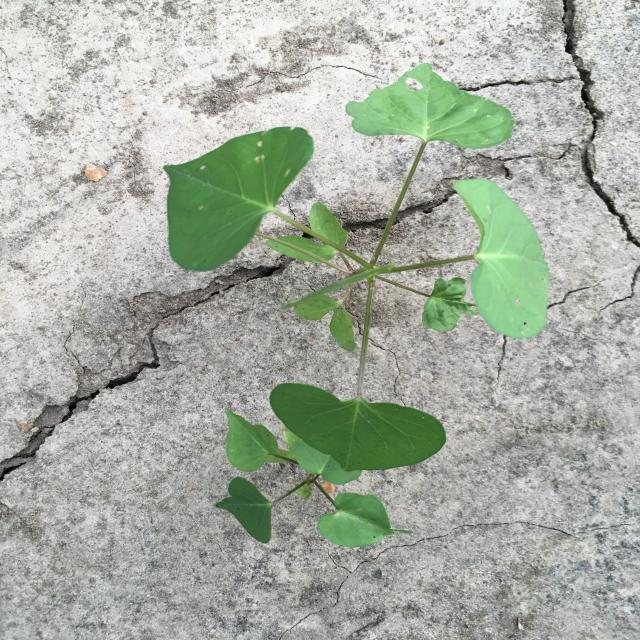MorningGlory: (163, 62, 550, 548)
